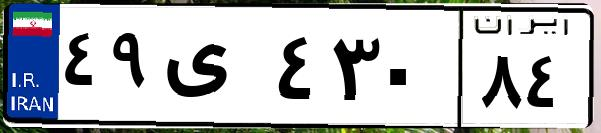0: (385, 28, 445, 110)
3: (330, 28, 385, 110)
4: (270, 28, 330, 110), (57, 26, 110, 100), (525, 38, 570, 115)
8: (475, 38, 525, 113)
9: (110, 28, 158, 98)
ی: (158, 20, 270, 120)
